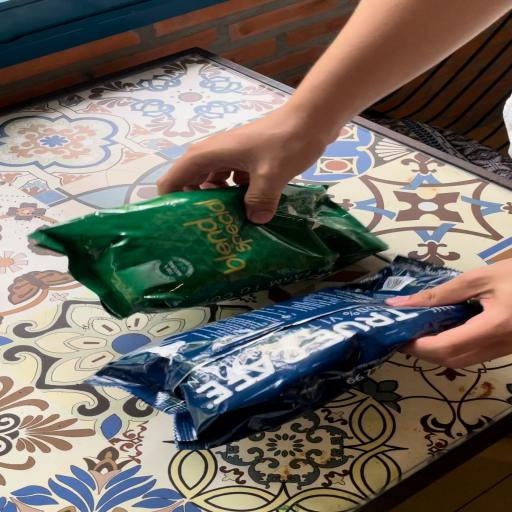cafe_hat: (86, 257, 480, 449)
cafe_xay: (31, 184, 385, 318)
